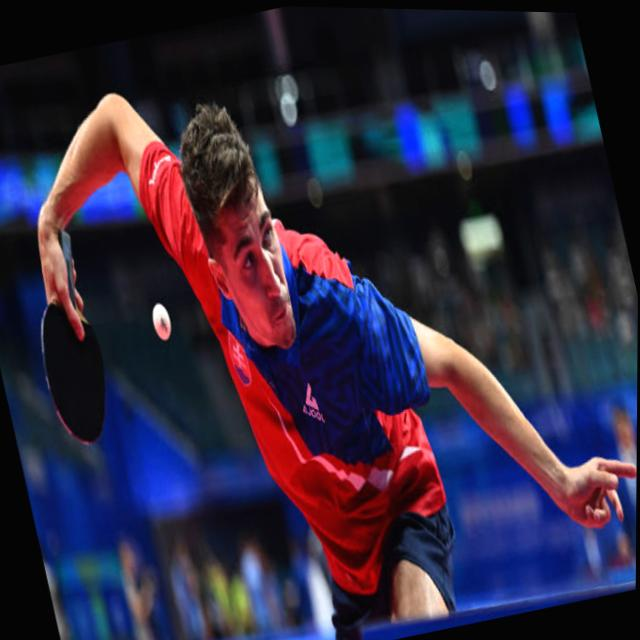TT Racket: (36, 274, 109, 465)
